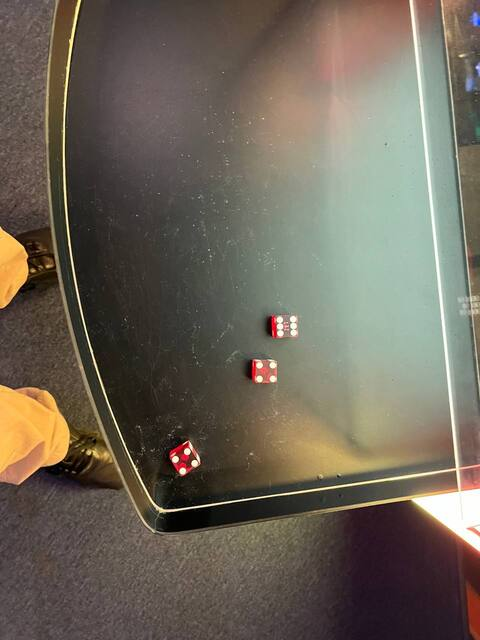four: (165, 445, 202, 477), (246, 359, 281, 388)
six: (270, 309, 301, 342)
